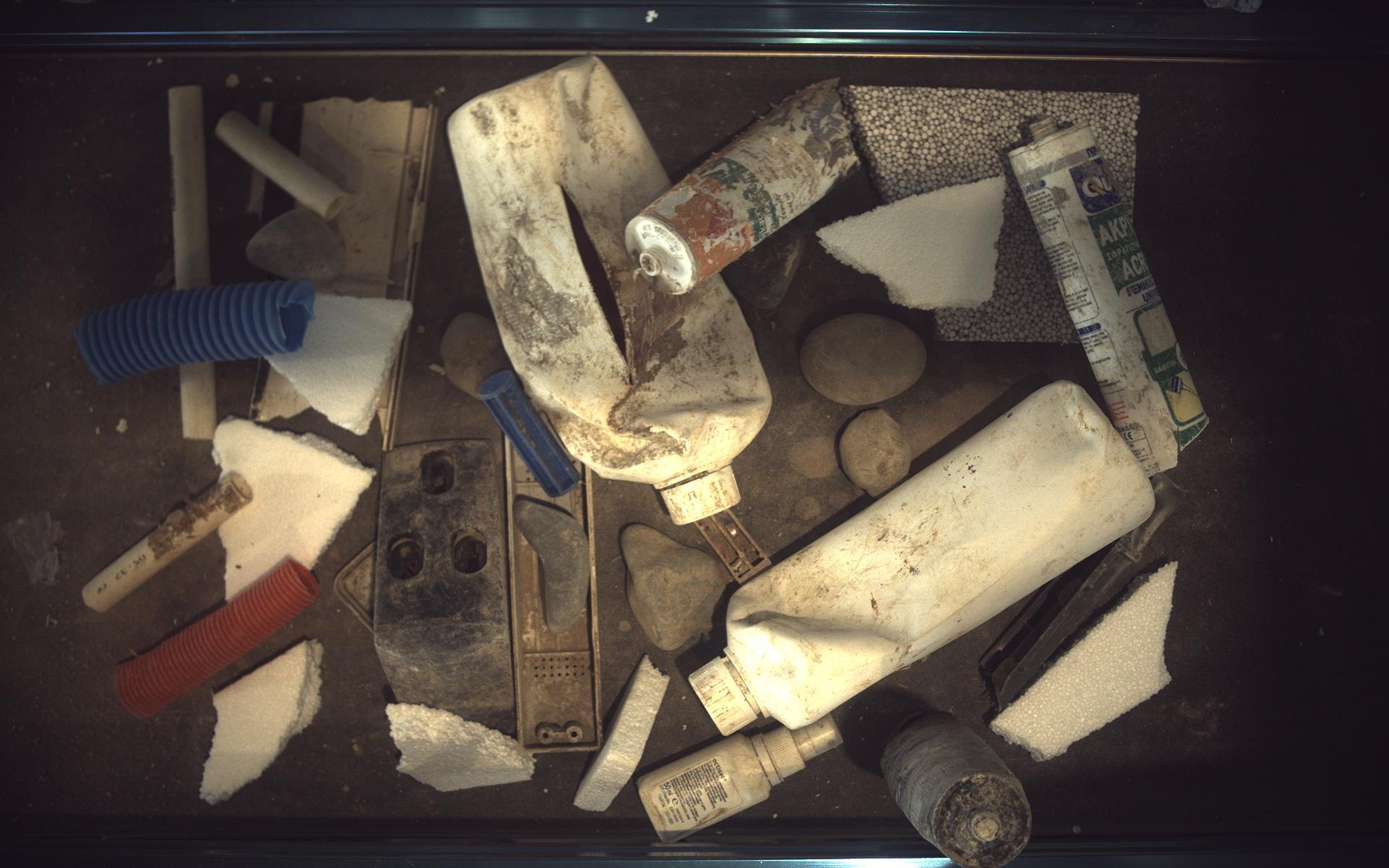foam: (843, 85, 1142, 342), (993, 562, 1181, 762), (212, 417, 374, 600), (818, 176, 1008, 310), (268, 293, 412, 435), (199, 641, 323, 805), (574, 658, 671, 813), (386, 705, 535, 793)
general_w: (638, 718, 841, 843)
pipes: (114, 558, 319, 718), (74, 280, 315, 385), (81, 472, 252, 613), (214, 110, 348, 220), (167, 84, 210, 289), (179, 361, 216, 440)
plastic: (691, 381, 1157, 736), (449, 55, 773, 525), (1011, 115, 1211, 476), (982, 473, 1188, 718), (626, 78, 859, 294), (373, 440, 515, 733), (256, 96, 435, 300), (505, 438, 600, 754), (883, 713, 1034, 868), (478, 372, 580, 498), (695, 509, 773, 586), (376, 329, 410, 451), (250, 356, 310, 422), (333, 542, 375, 634), (245, 167, 302, 229)
stone: (621, 524, 727, 651), (802, 313, 928, 406), (514, 496, 590, 634), (245, 205, 344, 284), (723, 223, 806, 310), (841, 409, 914, 498), (441, 312, 512, 398)
